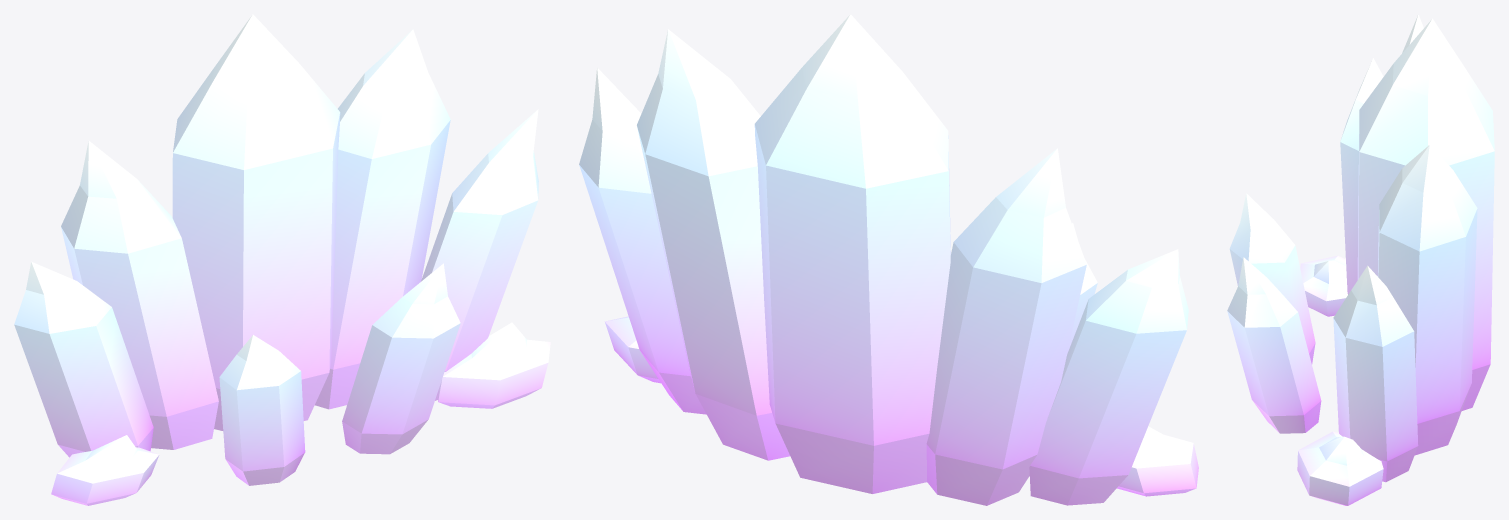
File: crystal_cluster_small_b_unoptimized.glb
3 views of the same model, side by side, from view 1: azimuth 30°, elevation 25°; view 2: azimuth 150°, elevation 25°; view 3: azimuth 270°, elevation 25° (orthographic). The views are drawn at different scales.
Parts seen in each view (by area): view 1: crystal_cluster_small_b; view 2: crystal_cluster_small_b; view 3: crystal_cluster_small_b.
Part boxes in pixels (left/top/right/bottom): crystal_cluster_small_b: left=14, top=14, right=550, bottom=505; crystal_cluster_small_b: left=579, top=14, right=1198, bottom=505; crystal_cluster_small_b: left=1227, top=14, right=1494, bottom=505.
Size of the model in its own units: 2.08 by 1.48 by 0.9484.
